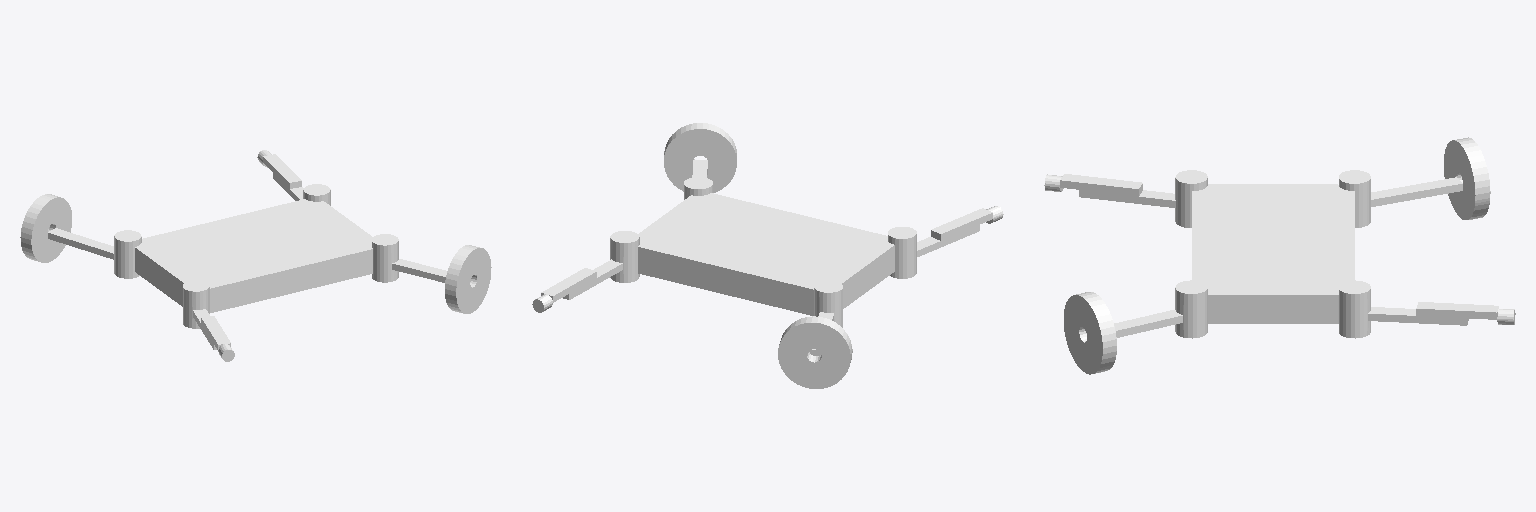
URDF robot description (four_skating):
<?xml version="1.0" encoding="utf-8"?>
<!-- This URDF was automatically created by SolidWorks to URDF Exporter! Originally created by [author] ([email redacted]) 
     Commit Version: 1.6.0-4-g7f85cfe  Build Version: 1.6.7995.38578
     For more information, please see http://wiki.ros.org/sw_urdf_exporter -->
<robot
  name="four_skating">
  <link
    name="base_link">
    <inertial>
      <origin
        xyz="-1.31284969742887E-17 -6.54836755974205E-18 0.005"
        rpy="0 0 0" />
      <mass
        value="0.0392146018366026" />
      <inertia
        ixx="8.24767242466039E-06"
        ixy="1.96455395481344E-21"
        ixz="1.97031431348917E-22"
        iyy="2.05319092153479E-05"
        iyz="3.32608016050597E-22"
        izz="2.81260049427316E-05" />
    </inertial>
    <visual>
      <origin
        xyz="0 0 0"
        rpy="0 0 0" />
      <geometry>
        <mesh
          filename="package://four_skating/meshes/base_link.STL" />
      </geometry>
      <material
        name="">
        <color
          rgba="1 1 1 1" />
      </material>
    </visual>
    <collision>
      <origin
        xyz="0 0 0"
        rpy="0 0 0" />
      <geometry>
        <mesh
          filename="package://four_skating/meshes/base_link.STL" />
      </geometry>
    </collision>
  </link>
  <link
    name="left_forward_Link_1">
    <inertial>
      <origin
        xyz="0 0.00469653105239854 0.00482901223692219"
        rpy="0 0 0" />
      <mass
        value="0.00155580902775302" />
      <inertia
        ixx="1.72003165569314E-07"
        ixy="8.27180612553028E-25"
        ixz="-8.89219158494505E-24"
        iyy="1.57424830559838E-07"
        iyz="7.11130751606718E-09"
        izz="3.08875512830852E-08" />
    </inertial>
    <visual>
      <origin
        xyz="0 0 0"
        rpy="0 0 0" />
      <geometry>
        <mesh
          filename="package://four_skating/meshes/left_forward_Link_1.STL" />
      </geometry>
      <material
        name="">
        <color
          rgba="1 1 1 1" />
      </material>
    </visual>
    <collision>
      <origin
        xyz="0 0 0"
        rpy="0 0 0" />
      <geometry>
        <mesh
          filename="package://four_skating/meshes/left_forward_Link_1.STL" />
      </geometry>
    </collision>
  </link>
  <joint
    name="left_forward_Joint_1"
    type="continuous">
    <origin
      xyz="0.0399999999999999 0.0250000000000002 0"
      rpy="1.5707963267949 0 3.02538154316369" />
    <parent
      link="base_link" />
    <child
      link="left_forward_Link_1" />
    <axis
      xyz="0 1 0" />
  </joint>
  <link
    name="left_forward_Link_2">
    <inertial>
      <origin
        xyz="0 0.000951178470486614 -0.0156825282638125"
        rpy="0 0 0" />
      <mass
        value="0.000410674770424681" />
      <inertia
        ixx="3.37221691289327E-08"
        ixy="-2.58493941422821E-26"
        ixz="1.0352682353984E-23"
        iyy="3.40937232189665E-08"
        iyz="-1.40072591959393E-09"
        izz="1.23732540087662E-09" />
    </inertial>
    <visual>
      <origin
        xyz="0 0 0"
        rpy="0 0 0" />
      <geometry>
        <mesh
          filename="package://four_skating/meshes/left_forward_Link_2.STL" />
      </geometry>
      <material
        name="">
        <color
          rgba="1 1 1 1" />
      </material>
    </visual>
    <collision>
      <origin
        xyz="0 0 0"
        rpy="0 0 0" />
      <geometry>
        <mesh
          filename="package://four_skating/meshes/left_forward_Link_2.STL" />
      </geometry>
    </collision>
  </link>
  <joint
    name="left_forward_Joint_2"
    type="prismatic">
    <origin
      xyz="0 0.005 0.019733"
      rpy="3.1416 0 3.1416" />
    <parent
      link="left_forward_Link_1" />
    <child
      link="left_forward_Link_2" />
    <axis
      xyz="0 0 1" />
    <limit
      lower="0"
      upper="0"
      effort="0"
      velocity="0" />
  </joint>
  <link
    name="left_forward_lun">
    <inertial>
      <origin
        xyz="-2.15105711021124E-16 -1.52655665885959E-16 -0.00243277831827535"
        rpy="0 0 0" />
      <mass
        value="0.00235619449019234" />
      <inertia
        ixx="1.00629139685298E-07"
        ixy="-1.78877807464592E-23"
        ixz="4.21862112402044E-23"
        iyy="1.00629139685298E-07"
        iyz="3.84638984837158E-23"
        izz="1.91440802328128E-07" />
    </inertial>
    <visual>
      <origin
        xyz="0 0 0"
        rpy="0 0 0" />
      <geometry>
        <mesh
          filename="package://four_skating/meshes/left_forward_lun.STL" />
      </geometry>
      <material
        name="">
        <color
          rgba="1 1 1 1" />
      </material>
    </visual>
    <collision>
      <origin
        xyz="0 0 0"
        rpy="0 0 0" />
      <geometry>
        <mesh
          filename="package://four_skating/meshes/left_forward_lun.STL" />
      </geometry>
    </collision>
  </link>
  <joint
    name="left_forward_lun"
    type="continuous">
    <origin
      xyz="0 0 -0.0246638915913767"
      rpy="0 0 2.54006675826632" />
    <parent
      link="left_forward_Link_2" />
    <child
      link="left_forward_lun" />
    <axis
      xyz="0 0 1" />
  </joint>
  <link
    name="right_forward_Link_1">
    <inertial>
      <origin
        xyz="-3.46944695195361E-18 0.00469653105239854 0.00482901223692221"
        rpy="0 0 0" />
      <mass
        value="0.00155580902775302" />
      <inertia
        ixx="1.72003165569314E-07"
        ixy="-4.13590306276514E-24"
        ixz="-1.57164316385075E-23"
        iyy="1.57424830559838E-07"
        iyz="7.11130751606718E-09"
        izz="3.08875512830852E-08" />
    </inertial>
    <visual>
      <origin
        xyz="0 0 0"
        rpy="0 0 0" />
      <geometry>
        <mesh
          filename="package://four_skating/meshes/right_forward_Link_1.STL" />
      </geometry>
      <material
        name="">
        <color
          rgba="1 1 1 1" />
      </material>
    </visual>
    <collision>
      <origin
        xyz="0 0 0"
        rpy="0 0 0" />
      <geometry>
        <mesh
          filename="package://four_skating/meshes/right_forward_Link_1.STL" />
      </geometry>
    </collision>
  </link>
  <joint
    name="right_forward_Joint_1"
    type="continuous">
    <origin
      xyz="0.04 -0.025 0"
      rpy="1.5708 0 0.50352" />
    <parent
      link="base_link" />
    <child
      link="right_forward_Link_1" />
    <axis
      xyz="0 1 0" />
  </joint>
  <link
    name="right_forward_Link_2">
    <inertial>
      <origin
        xyz="1.04083408558608E-17 0.00095117847048663 -0.0181989952794125"
        rpy="0 0 0" />
      <mass
        value="0.000410674770424681" />
      <inertia
        ixx="3.37221691289327E-08"
        ixy="-1.03996423877919E-25"
        ixz="5.16987882845642E-25"
        iyy="3.40937232189665E-08"
        iyz="-1.40072591959389E-09"
        izz="1.23732540087662E-09" />
    </inertial>
    <visual>
      <origin
        xyz="0 0 0"
        rpy="0 0 0" />
      <geometry>
        <mesh
          filename="package://four_skating/meshes/right_forward_Link_2.STL" />
      </geometry>
      <material
        name="">
        <color
          rgba="1 1 1 1" />
      </material>
    </visual>
    <collision>
      <origin
        xyz="0 0 0"
        rpy="0 0 0" />
      <geometry>
        <mesh
          filename="package://four_skating/meshes/right_forward_Link_2.STL" />
      </geometry>
    </collision>
  </link>
  <joint
    name="right_forward_Joint_2"
    type="prismatic">
    <origin
      xyz="0 0.005 0.00583598115499422"
      rpy="-3.14159265358979 0 3.14159265358979" />
    <parent
      link="right_forward_Link_1" />
    <child
      link="right_forward_Link_2" />
    <axis
      xyz="0 0 1" />
    <limit
      lower="0"
      upper="0"
      effort="0"
      velocity="0" />
  </joint>
  <link
    name="right_forward_lun">
    <inertial>
      <origin
        xyz="5.20417042793042E-18 1.73472347597681E-17 -0.0164181508625821"
        rpy="0 0 0" />
      <mass
        value="0.00235619449019235" />
      <inertia
        ixx="1.00629139685298E-07"
        ixy="-3.30872245021211E-24"
        ixz="0"
        iyy="1.00629139685298E-07"
        iyz="9.92616735063633E-24"
        izz="1.91440802328128E-07" />
    </inertial>
    <visual>
      <origin
        xyz="0 0 0"
        rpy="0 0 0" />
      <geometry>
        <mesh
          filename="package://four_skating/meshes/right_forward_lun.STL" />
      </geometry>
      <material
        name="">
        <color
          rgba="1 1 1 1" />
      </material>
    </visual>
    <collision>
      <origin
        xyz="0 0 0"
        rpy="0 0 0" />
      <geometry>
        <mesh
          filename="package://four_skating/meshes/right_forward_lun.STL" />
      </geometry>
    </collision>
  </link>
  <joint
    name="right_forward_lun"
    type="continuous">
    <origin
      xyz="0 0 -0.0131949860626701"
      rpy="0 0 -1.15776168458666" />
    <parent
      link="right_forward_Link_2" />
    <child
      link="right_forward_lun" />
    <axis
      xyz="0 0 1" />
  </joint>
  <link
    name="left_backward_Link_1">
    <inertial>
      <origin
        xyz="0 0.00469653105239854 0.0048290122369222"
        rpy="0 0 0" />
      <mass
        value="0.00155580902775302" />
      <inertia
        ixx="1.72003165569314E-07"
        ixy="-2.8951321439356E-24"
        ixz="3.14328632770151E-23"
        iyy="1.57424830559838E-07"
        iyz="7.11130751606719E-09"
        izz="3.08875512830852E-08" />
    </inertial>
    <visual>
      <origin
        xyz="0 0 0"
        rpy="0 0 0" />
      <geometry>
        <mesh
          filename="package://four_skating/meshes/left_backward_Link_1.STL" />
      </geometry>
      <material
        name="">
        <color
          rgba="1 1 1 1" />
      </material>
    </visual>
    <collision>
      <origin
        xyz="0 0 0"
        rpy="0 0 0" />
      <geometry>
        <mesh
          filename="package://four_skating/meshes/left_backward_Link_1.STL" />
      </geometry>
    </collision>
  </link>
  <joint
    name="left_backward_Joint_1"
    type="continuous">
    <origin
      xyz="-0.04 0.025 0"
      rpy="1.5708 0 -2.7407" />
    <parent
      link="base_link" />
    <child
      link="left_backward_Link_1" />
    <axis
      xyz="0 1 0" />
  </joint>
  <link
    name="left_backward_Link_2">
    <inertial>
      <origin
        xyz="-3.46944695195361E-18 0.000951178470486647 -0.0178825156824723"
        rpy="0 0 0" />
      <mass
        value="0.000410674770424681" />
      <inertia
        ixx="3.37221691289326E-08"
        ixy="-1.24077091882954E-24"
        ixz="-9.35748067950613E-24"
        iyy="3.40937232189665E-08"
        iyz="-1.40072591959386E-09"
        izz="1.23732540087661E-09" />
    </inertial>
    <visual>
      <origin
        xyz="0 0 0"
        rpy="0 0 0" />
      <geometry>
        <mesh
          filename="package://four_skating/meshes/left_backward_Link_2.STL" />
      </geometry>
      <material
        name="">
        <color
          rgba="1 1 1 1" />
      </material>
    </visual>
    <collision>
      <origin
        xyz="0 0 0"
        rpy="0 0 0" />
      <geometry>
        <mesh
          filename="package://four_skating/meshes/left_backward_Link_2.STL" />
      </geometry>
    </collision>
  </link>
  <joint
    name="left_backward_Joint_2"
    type="prismatic">
    <origin
      xyz="0 0.005 0.00812196270704283"
      rpy="3.14159265358979 0 3.14159265358979" />
    <parent
      link="left_backward_Link_1" />
    <child
      link="left_backward_Link_2" />
    <axis
      xyz="0 0 1" />
    <limit
      lower="0"
      upper="0"
      effort="0"
      velocity="0" />
  </joint>
  <link
    name="left_backward_lun">
    <inertial>
      <origin
        xyz="7.63278329429795E-17 1.82145964977565E-17 -0.0131328631479988"
        rpy="0 0 0" />
      <mass
        value="0.00235619449019234" />
      <inertia
        ixx="1.00629139685298E-07"
        ixy="-5.16987882845642E-24"
        ixz="9.92616735063633E-24"
        iyy="1.00629139685298E-07"
        iyz="-2.39882377640378E-23"
        izz="1.91440802328128E-07" />
    </inertial>
    <visual>
      <origin
        xyz="0 0 0"
        rpy="0 0 0" />
      <geometry>
        <mesh
          filename="package://four_skating/meshes/left_backward_lun.STL" />
      </geometry>
      <material
        name="">
        <color
          rgba="1 1 1 1" />
      </material>
    </visual>
    <collision>
      <origin
        xyz="0 0 0"
        rpy="0 0 0" />
      <geometry>
        <mesh
          filename="package://four_skating/meshes/left_backward_lun.STL" />
      </geometry>
    </collision>
  </link>
  <joint
    name="left_backward_lun"
    type="continuous">
    <origin
      xyz="0 0 -0.0161637941803131"
      rpy="0 0 -0.206289656954149" />
    <parent
      link="left_backward_Link_2" />
    <child
      link="left_backward_lun" />
    <axis
      xyz="0 0 1" />
  </joint>
  <link
    name="right_backward_Link_1">
    <inertial>
      <origin
        xyz="6.93889390390723E-18 0.00469653105239854 0.00482901223692219"
        rpy="0 0 0" />
      <mass
        value="0.00155580902775302" />
      <inertia
        ixx="1.72003165569314E-07"
        ixy="3.30872245021211E-24"
        ixz="3.30872245021211E-23"
        iyy="1.57424830559838E-07"
        iyz="7.11130751606718E-09"
        izz="3.08875512830852E-08" />
    </inertial>
    <visual>
      <origin
        xyz="0 0 0"
        rpy="0 0 0" />
      <geometry>
        <mesh
          filename="package://four_skating/meshes/right_backward_Link_1.STL" />
      </geometry>
      <material
        name="">
        <color
          rgba="1 1 1 1" />
      </material>
    </visual>
    <collision>
      <origin
        xyz="0 0 0"
        rpy="0 0 0" />
      <geometry>
        <mesh
          filename="package://four_skating/meshes/right_backward_Link_1.STL" />
      </geometry>
    </collision>
  </link>
  <joint
    name="right_backward_Joint_1"
    type="continuous">
    <origin
      xyz="-0.04 -0.025 0"
      rpy="1.5707963267949 0 -0.264786446467445" />
    <parent
      link="base_link" />
    <child
      link="right_backward_Link_1" />
    <axis
      xyz="0 1 0" />
  </joint>
  <link
    name="right_backward_Link_2">
    <inertial>
      <origin
        xyz="1.38777878078145E-17 0.000951178470486639 -0.0140312019842561"
        rpy="0 0 0" />
      <mass
        value="0.000410674770424681" />
      <inertia
        ixx="3.37221691289327E-08"
        ixy="-9.49742628874355E-26"
        ixz="8.11670976067658E-24"
        iyy="3.40937232189666E-08"
        iyz="-1.40072591959388E-09"
        izz="1.23732540087662E-09" />
    </inertial>
    <visual>
      <origin
        xyz="0 0 0"
        rpy="0 0 0" />
      <geometry>
        <mesh
          filename="package://four_skating/meshes/right_backward_Link_2.STL" />
      </geometry>
      <material
        name="">
        <color
          rgba="1 1 1 1" />
      </material>
    </visual>
    <collision>
      <origin
        xyz="0 0 0"
        rpy="0 0 0" />
      <geometry>
        <mesh
          filename="package://four_skating/meshes/right_backward_Link_2.STL" />
      </geometry>
    </collision>
  </link>
  <joint
    name="right_backward_Joint_2"
    type="prismatic">
    <origin
      xyz="0 0.00500000000000001 0.0181150724675244"
      rpy="-3.14159265358979 0 3.14159265358979" />
    <parent
      link="right_backward_Link_1" />
    <child
      link="right_backward_Link_2" />
    <axis
      xyz="0 0 1" />
    <limit
      lower="0"
      upper="0"
      effort="0"
      velocity="0" />
  </joint>
  <link
    name="right_backward_lun">
    <inertial>
      <origin
        xyz="0 -3.46944695195361E-18 -0.00215755727168261"
        rpy="0 0 0" />
      <mass
        value="0.00235619449019235" />
      <inertia
        ixx="1.00629139685298E-07"
        ixy="-2.00591298544109E-23"
        ixz="8.27180612553028E-24"
        iyy="1.00629139685298E-07"
        iyz="4.13590306276514E-23"
        izz="1.91440802328128E-07" />
    </inertial>
    <visual>
      <origin
        xyz="0 0 0"
        rpy="0 0 0" />
      <geometry>
        <mesh
          filename="package://four_skating/meshes/right_backward_lun.STL" />
      </geometry>
      <material
        name="">
        <color
          rgba="1 1 1 1" />
      </material>
    </visual>
    <collision>
      <origin
        xyz="0 0 0"
        rpy="0 0 0" />
      <geometry>
        <mesh
          filename="package://four_skating/meshes/right_backward_lun.STL" />
      </geometry>
    </collision>
  </link>
  <joint
    name="right_backward_lun"
    type="continuous">
    <origin
      xyz="0 0 -0.0232877863584131"
      rpy="0 0 -0.377256984560737" />
    <parent
      link="right_backward_Link_2" />
    <child
      link="right_backward_lun" />
    <axis
      xyz="0 0 1" />
  </joint>
</robot>

--- Render facts (derived) ---
The picture shows the robot from 3 angles, left to right: view 1: azimuth 30°, elevation 25°; view 2: azimuth 150°, elevation 25°; view 3: azimuth 270°, elevation 25°; orthographic projection.
Robot: four_skating — 13 links, 12 joints (8 continuous, 4 prismatic); root link base_link; default pose: every joint at zero.
Visible links, largest first — view 1: base_link, right_forward_lun, left_backward_lun, left_backward_Link_1, right_forward_Link_1, right_backward_Link_1, left_forward_Link_2, right_backward_Link_2, left_forward_Link_1; view 2: base_link, left_backward_lun, right_forward_lun, left_forward_Link_1, right_backward_Link_1, left_backward_Link_1, right_backward_Link_2, left_forward_Link_2, right_forward_Link_1; view 3: base_link, right_forward_lun, left_backward_lun, left_forward_Link_1, right_forward_Link_1, left_backward_Link_1, right_backward_Link_1, left_forward_Link_2, right_backward_Link_2.
Boxes of the visible links, bbox=[...] form: base_link: bbox=[135, 199, 372, 312]; right_forward_lun: bbox=[445, 245, 491, 313]; left_backward_lun: bbox=[20, 194, 71, 262]; left_backward_Link_1: bbox=[48, 228, 141, 278]; right_forward_Link_1: bbox=[372, 234, 446, 282]; right_backward_Link_1: bbox=[183, 280, 216, 349]; left_forward_Link_2: bbox=[257, 150, 301, 188]; right_backward_Link_2: bbox=[201, 316, 234, 361]; left_forward_Link_1: bbox=[273, 173, 330, 205]; base_link: bbox=[638, 193, 894, 315]; left_backward_lun: bbox=[778, 316, 852, 388]; right_forward_lun: bbox=[664, 123, 736, 192]; left_forward_Link_1: bbox=[563, 231, 639, 299]; right_backward_Link_1: bbox=[888, 225, 979, 278]; left_backward_Link_1: bbox=[809, 281, 842, 355]; right_backward_Link_2: bbox=[931, 206, 1003, 240]; left_forward_Link_2: bbox=[532, 268, 596, 312]; right_forward_Link_1: bbox=[684, 160, 712, 199]; base_link: bbox=[1192, 184, 1354, 323]; right_forward_lun: bbox=[1064, 292, 1116, 374]; left_backward_lun: bbox=[1444, 137, 1490, 219]; left_forward_Link_1: bbox=[1339, 280, 1468, 338]; right_forward_Link_1: bbox=[1114, 280, 1207, 338]; left_backward_Link_1: bbox=[1339, 170, 1462, 227]; right_backward_Link_1: bbox=[1079, 170, 1207, 227]; left_forward_Link_2: bbox=[1416, 302, 1515, 324]; right_backward_Link_2: bbox=[1044, 174, 1142, 196].
Size in the robot's own frame: 0.1363 by 0.1444 by 0.025 metres.
9 mesh visuals loaded from 13 distinct referenced files (9 binary STL); not drawn: 4 (reference not matched to a file when rendering).
